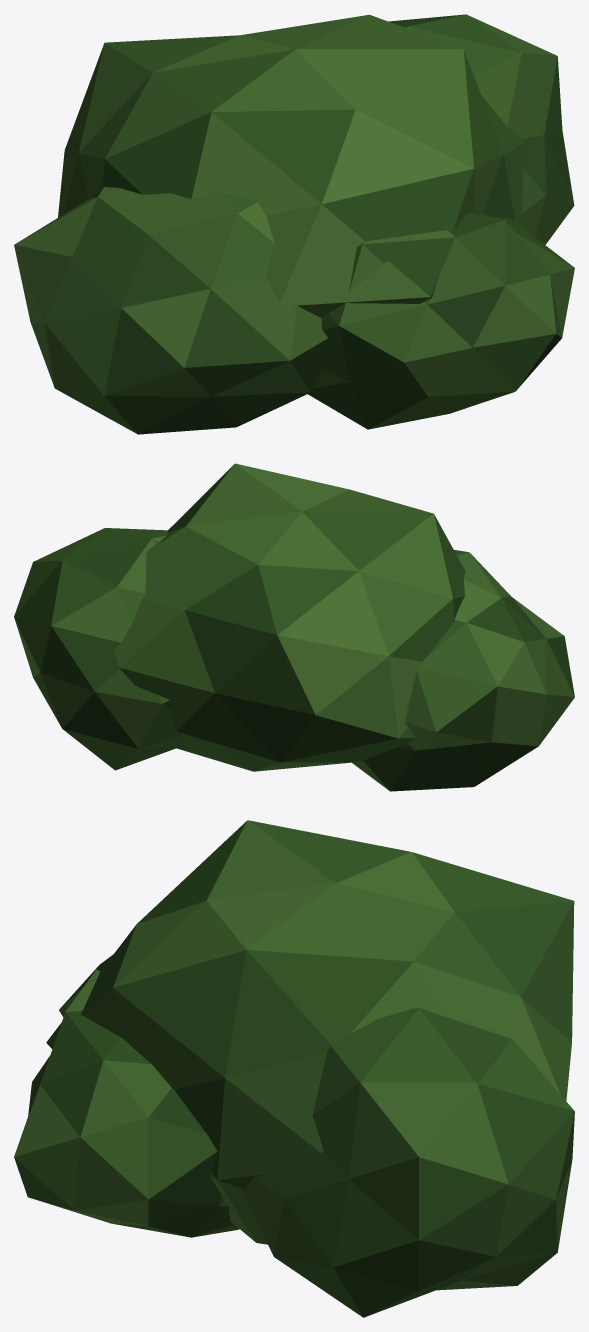
File: fr_bush_a.glb
3 views of the same model, one above another, from view 1: azimuth 30°, elevation 25°; view 2: azimuth 150°, elevation 25°; view 3: azimuth 270°, elevation 25° (orthographic). The views are drawn at different scales.
Parts seen in each view (by area): view 1: fr_bush_a; view 2: fr_bush_a; view 3: fr_bush_a.
Part boxes in pixels (left/top/right/bottom): fr_bush_a: left=14, top=14, right=574, bottom=434; fr_bush_a: left=14, top=463, right=574, bottom=791; fr_bush_a: left=14, top=820, right=574, bottom=1317.
Size of the model in its own units: 3.48 by 1.74 by 2.7.
